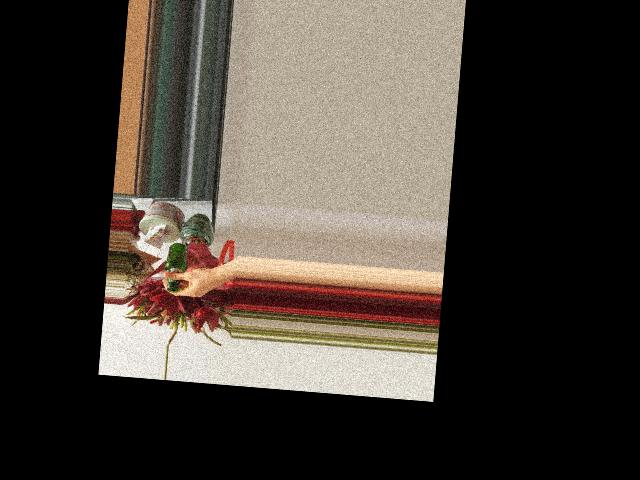beer: (162, 241, 188, 292)
